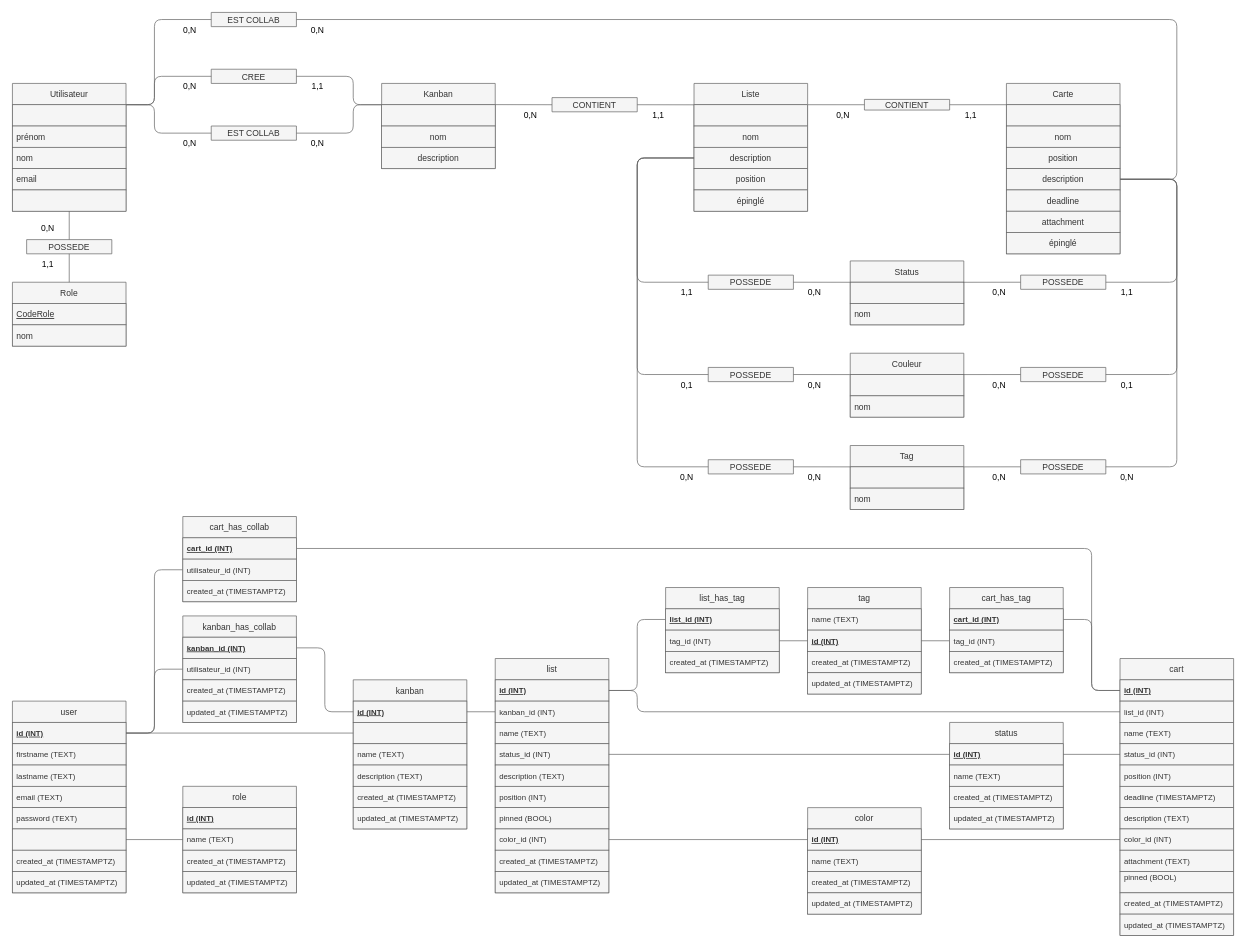
The diagram is 1246 pixels wide and 948 high, and some of its shapes have lost their labels. Each missing label, with the centre of its shape:
CodeCarte: the point at 1063,115
CodeCouleur: the point at 907,385
CodeKanban: the point at 438,115
CodeListe: the point at 750,115
CodeStatus: the point at 907,293
CodeTag: the point at 907,477
CodeUtilisateur: the point at 69,115
motDePasse: the point at 69,200
owner_id (INT): the point at 410,733
role_id (INT): the point at 69,839
